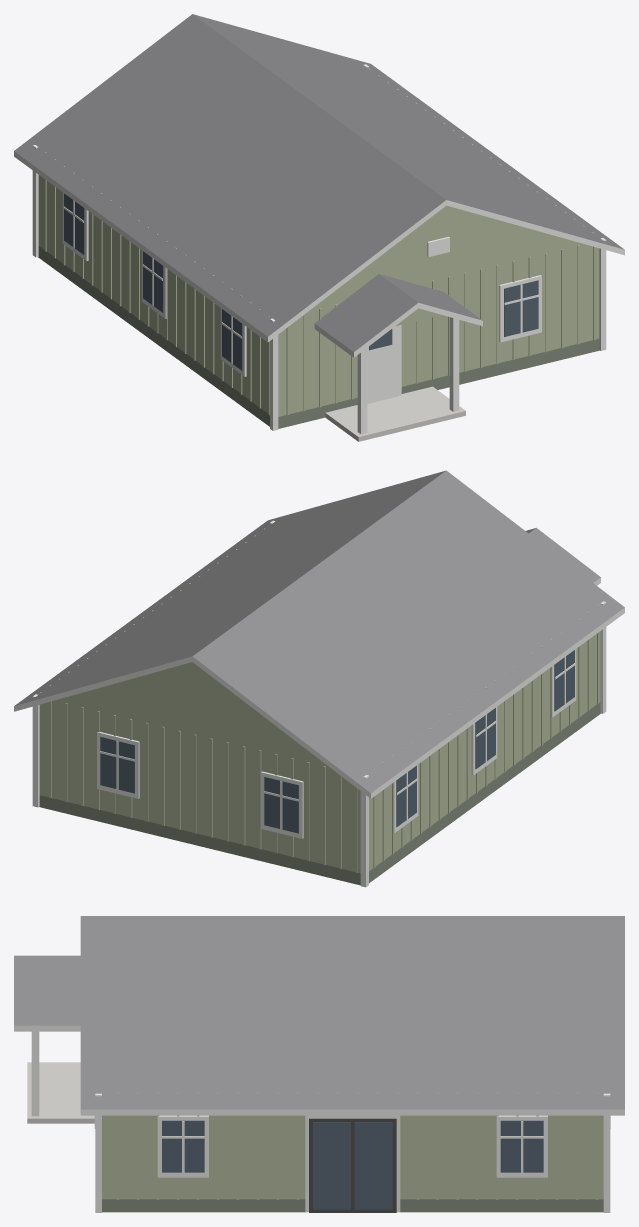
File: delta-sage.glb
The picture shows the model from 3 angles, top to bottom: view 1: azimuth 30°, elevation 25°; view 2: azimuth 150°, elevation 25°; view 3: azimuth 270°, elevation 25°; orthographic projection. The views are drawn at different scales.
Parts seen in each view (by area): view 1: The Delta (sage); view 2: The Delta (sage); view 3: The Delta (sage).
Part boxes in pixels (bbox=[...]): The Delta (sage): bbox=[14, 14, 624, 441]; The Delta (sage): bbox=[14, 470, 624, 887]; The Delta (sage): bbox=[14, 916, 624, 1212].
Bounding box in the file's own units: 9.29 × 4.88 × 12.85.
